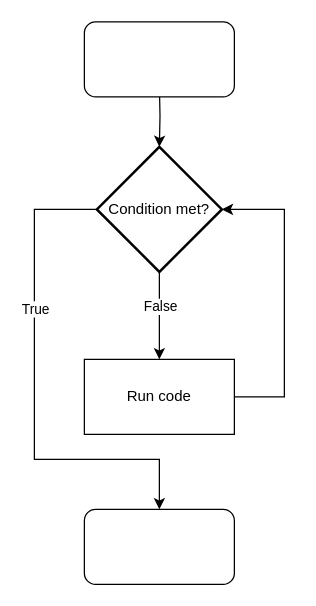
This 316x606 diagram has some shape labels left out. The shapes that lost their labels are listed below. From the top down, each one's centre as x and y in pixels, then its label:
At point 158,59: "Start".
At point 158,546: "Done".
